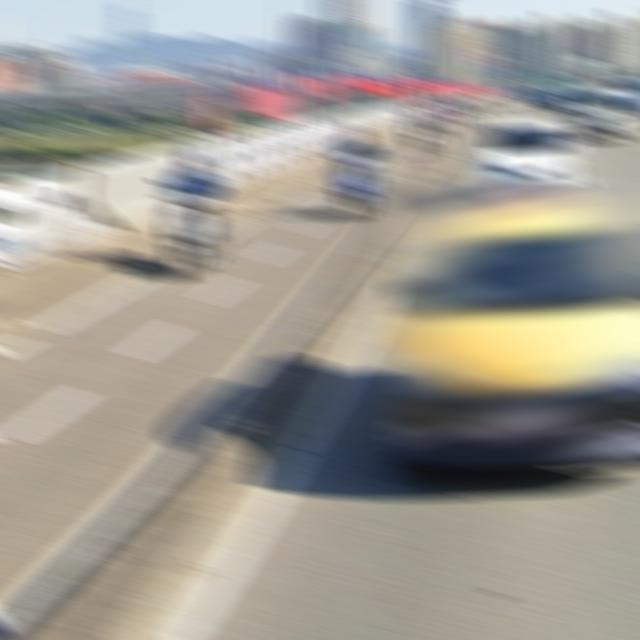Taxi: (387, 183, 640, 466)
